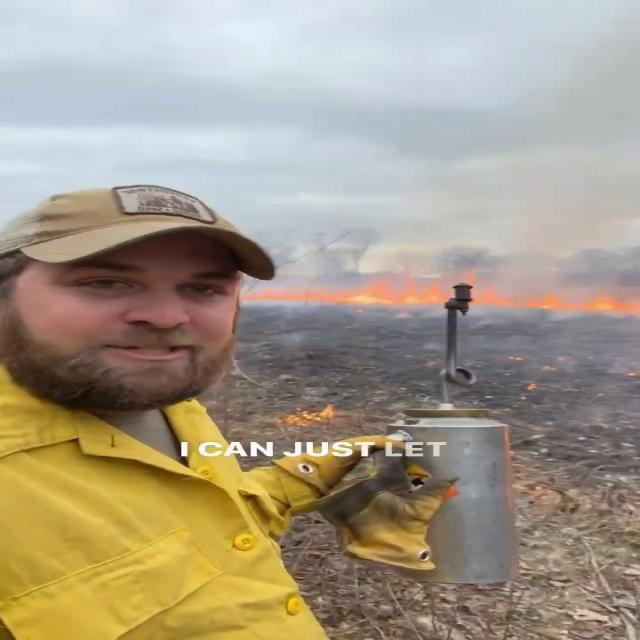Fire: (296, 267, 640, 317)
Smoke: (246, 2, 640, 284)
